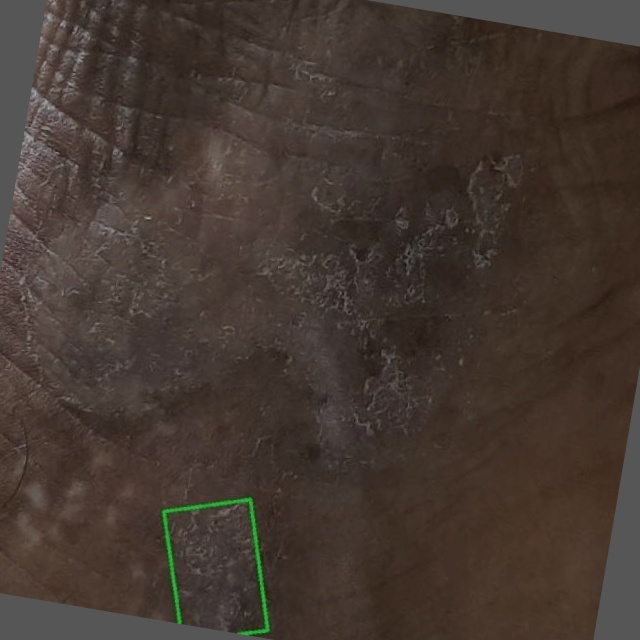Eczema: (164, 499, 268, 634)
